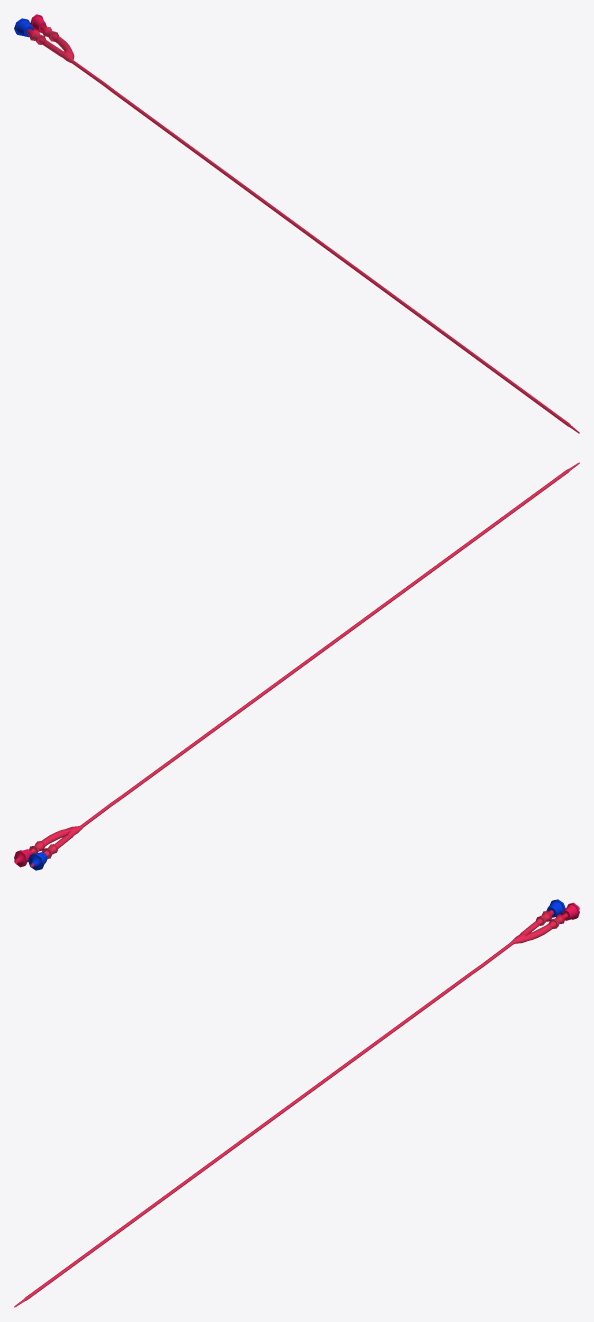
File: cannula_avalon.fbx
The picture shows the model from 3 angles, top to bottom: view 1: azimuth 30°, elevation 25°; view 2: azimuth 150°, elevation 25°; view 3: azimuth 330°, elevation 25°; orthographic projection.
Visible parts, largest first — view 1: AvalonCan; view 2: AvalonCan; view 3: AvalonCan.
Part boxes in pixels (x1,y1,x2,y2): AvalonCan: (26, 25, 579, 433); AvalonCan: (14, 462, 579, 867); AvalonCan: (14, 906, 579, 1307).
Size of the model in its own units: 0.9936 by 0.5373 by 32.52.
